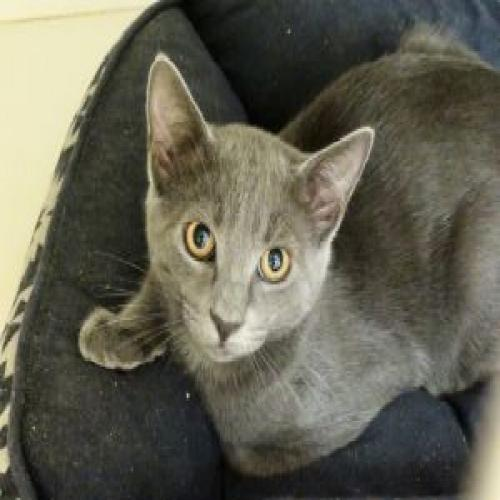rblue: (141, 50, 377, 379)
